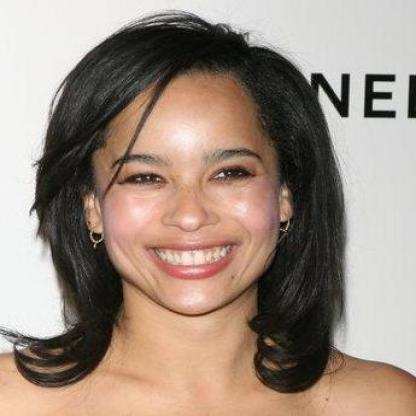long-hair: (1, 312, 380, 394)
